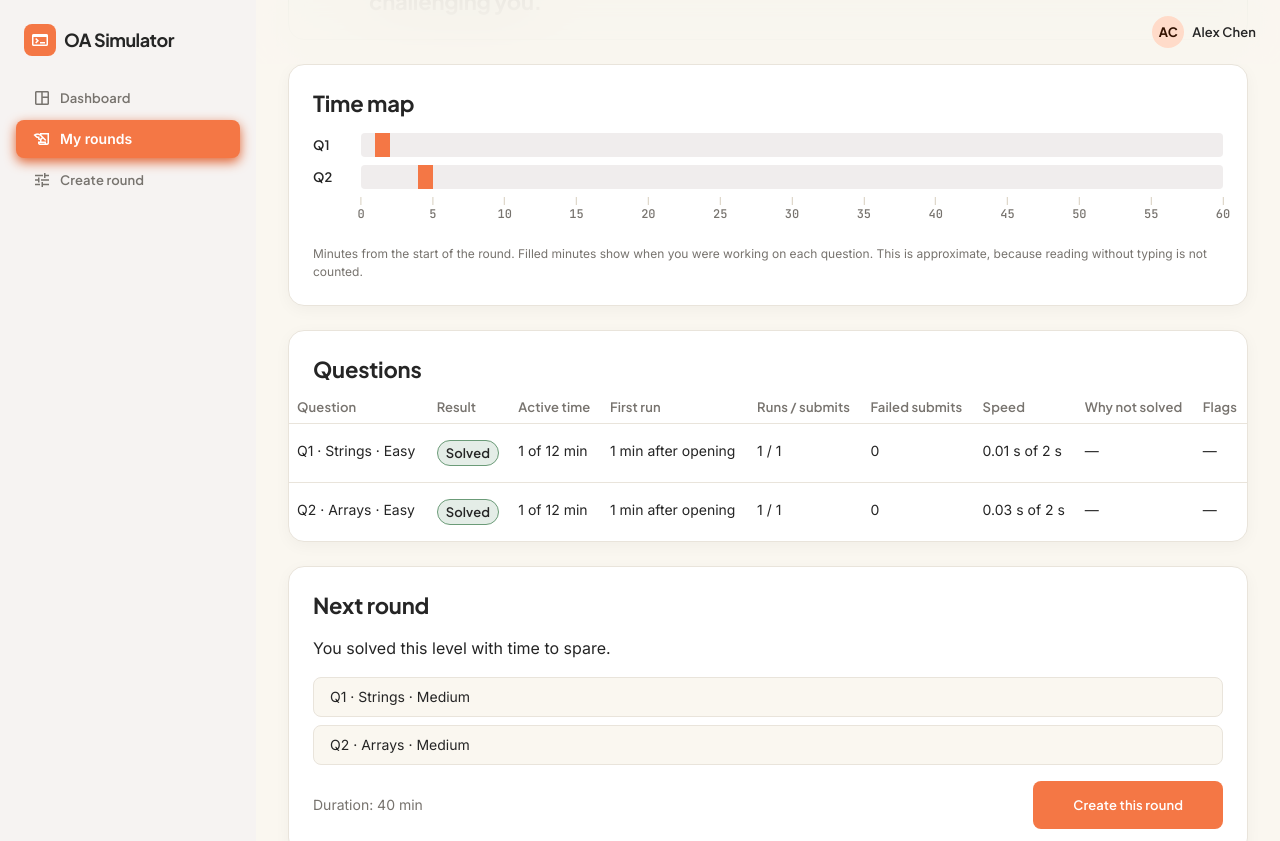
Test: next round card › a network error shows the banner with Retry, and Retry tries again
The width and height of the screenshot is (1280, 841).
Later steps or results of the test are not shown.
(page scrolled)
Click the button "Create this round".
click(1128, 805)  # box [1033,781,1223,829]
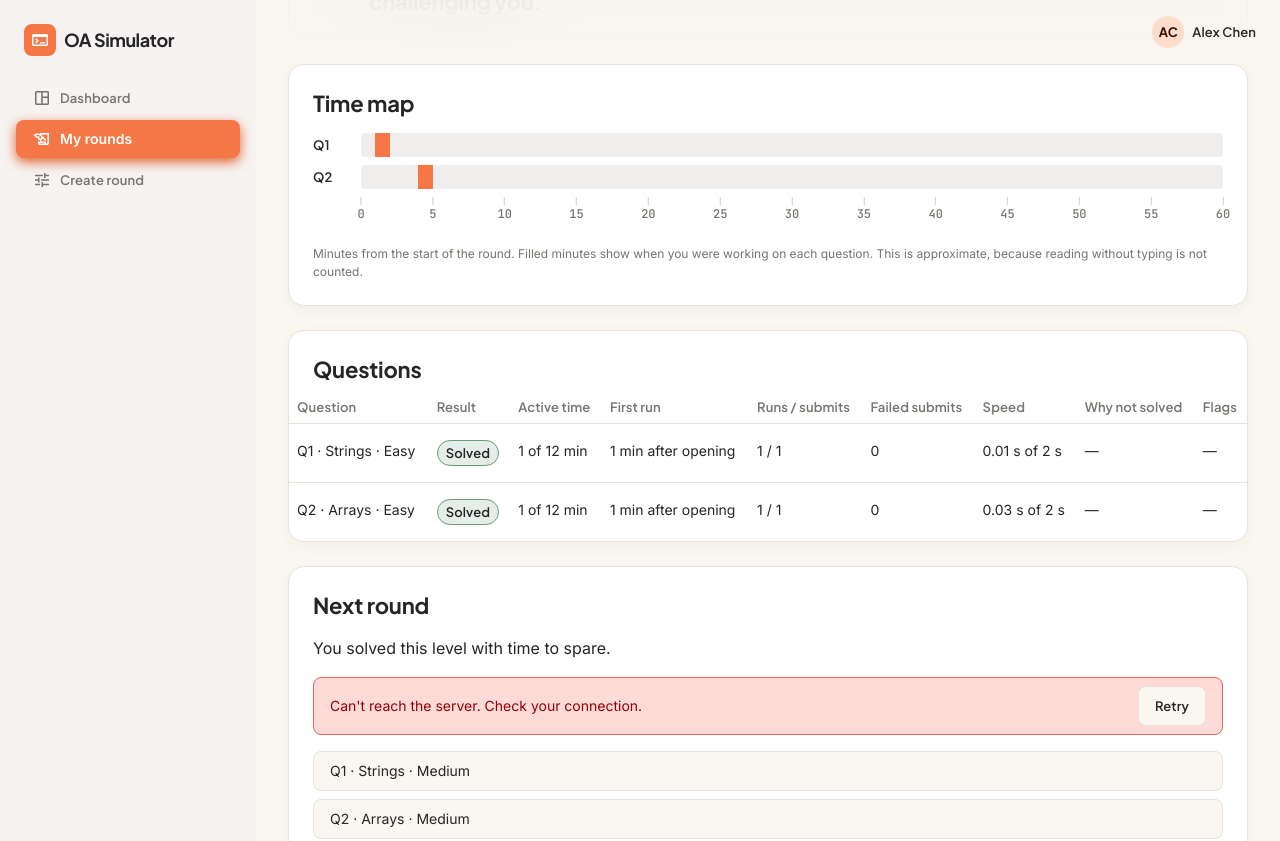
Expected: the message shows "Can't reach the server. Check your connection.", [330,697,642,714]
